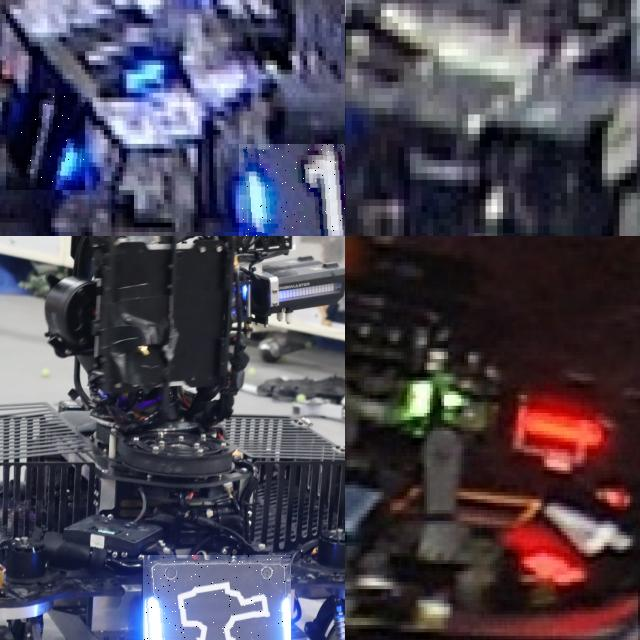B1: (239, 143, 345, 236), (6, 93, 85, 190)
Bs: (142, 555, 291, 640)
